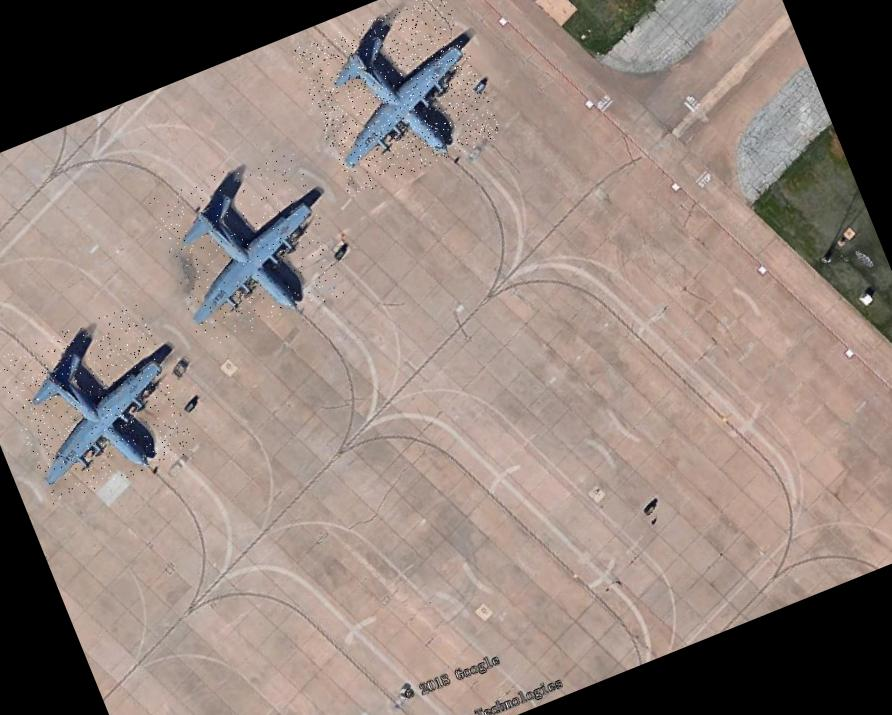A2: (142, 141, 351, 350), (290, 0, 503, 197), (0, 300, 198, 508)
